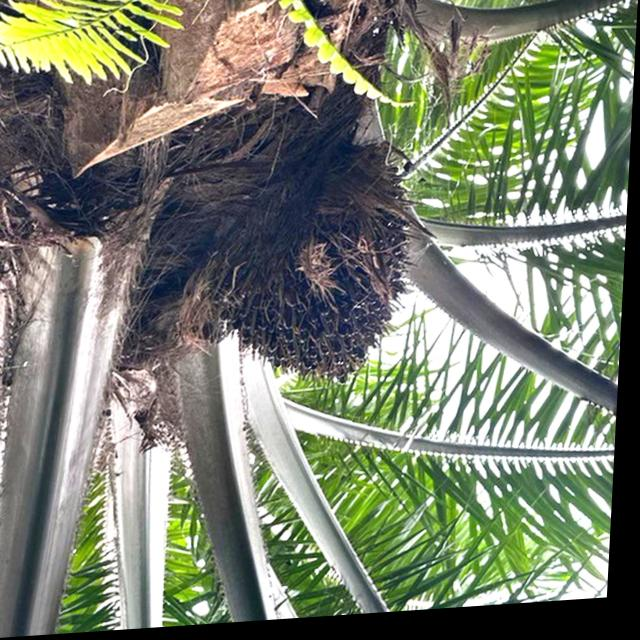unripe: (204, 148, 445, 398)
